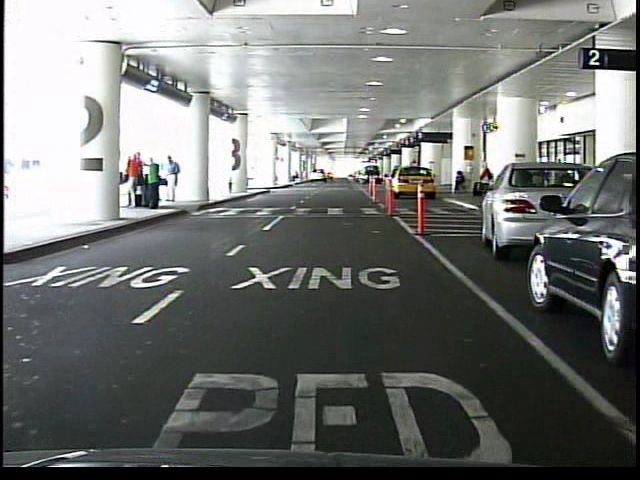person: (145, 155, 162, 210), (166, 155, 182, 204), (129, 150, 142, 207), (479, 162, 493, 196), (451, 171, 466, 196)
